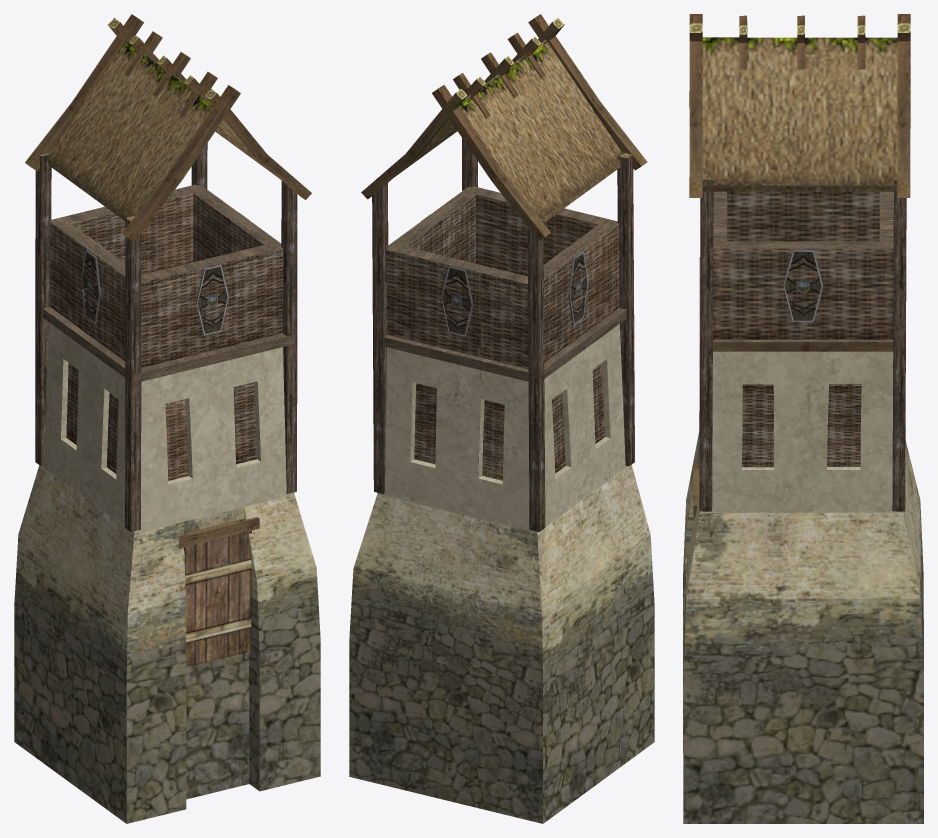
The model's file is tower_stone.dae.
The picture shows the model from 3 angles, left to right: view 1: azimuth 30°, elevation 25°; view 2: azimuth 150°, elevation 25°; view 3: azimuth 270°, elevation 25°; orthographic projection. The views are drawn at different scales.
Parts seen in each view (by area): view 1: stone_tower; view 2: stone_tower; view 3: stone_tower.
Boxes of the visible parts, left/top/right/bottom form: stone_tower: left=14, top=14, right=320, bottom=823; stone_tower: left=349, top=14, right=654, bottom=823; stone_tower: left=683, top=14, right=923, bottom=823.
Bounding box in the file's own units: 7.35 × 7.35 × 25.49.
